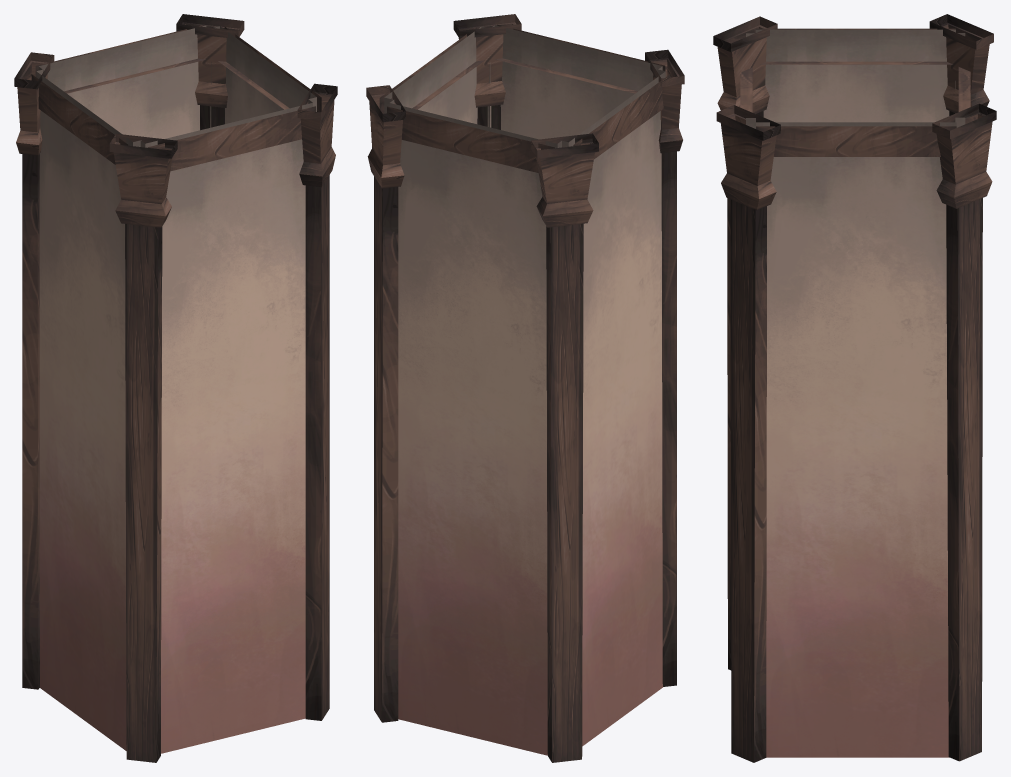
The model's file is Wall_Top_Half_Pillar_LOD1.fbx.
3 views of the same model, side by side, from view 1: azimuth 30°, elevation 25°; view 2: azimuth 150°, elevation 25°; view 3: azimuth 270°, elevation 25° (orthographic). The views are drawn at different scales.
Parts seen in each view (by area): view 1: Top_HalfPillar_LOD1; view 2: Top_HalfPillar_LOD1; view 3: Top_HalfPillar_LOD1.
Boxes of the visible parts, box(x1,y1,x2,y2) form: Top_HalfPillar_LOD1: box(14, 14, 337, 762); Top_HalfPillar_LOD1: box(366, 14, 684, 762); Top_HalfPillar_LOD1: box(713, 14, 996, 762).
Size of the model in its own units: 0.0168 by 0.0422 by 0.017.
